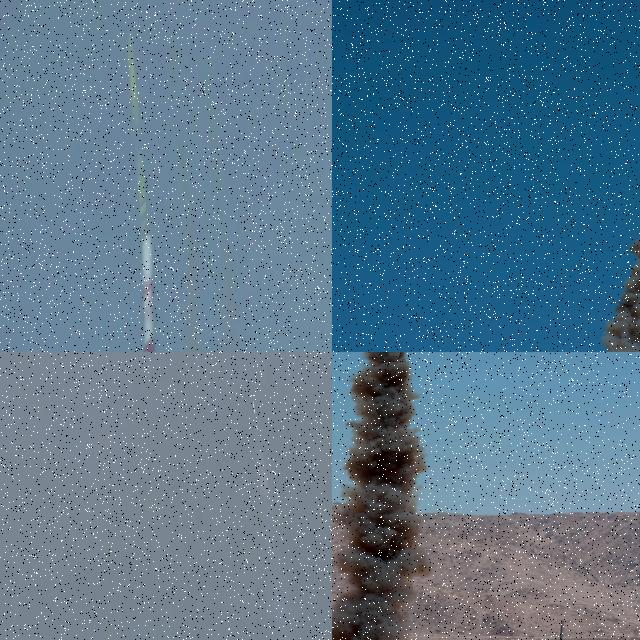Rocket: (135, 231, 165, 352), (252, 400, 256, 415)
